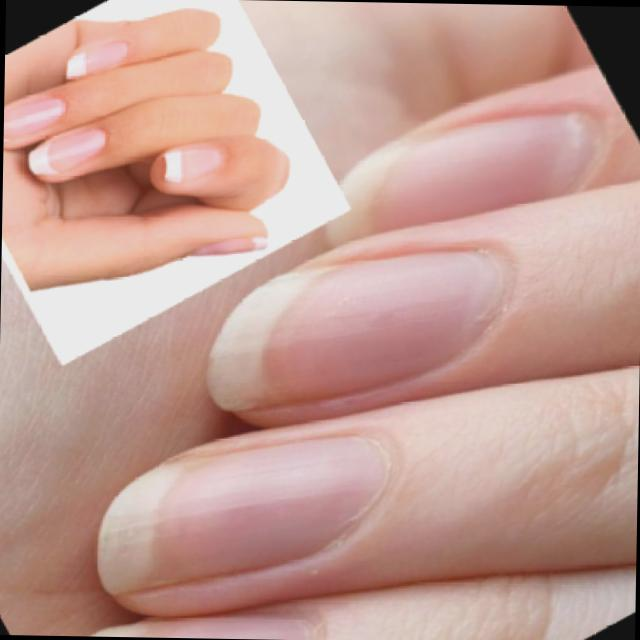Nail: (208, 247, 504, 412), (97, 437, 381, 598), (323, 106, 601, 249), (29, 126, 105, 175), (3, 94, 64, 145), (163, 142, 223, 181), (65, 40, 127, 76), (195, 238, 262, 252)
